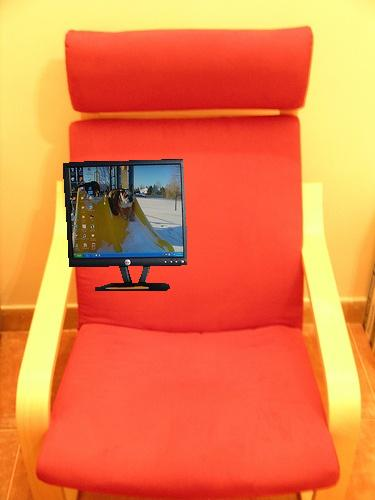tampered: (64, 160, 187, 291)
